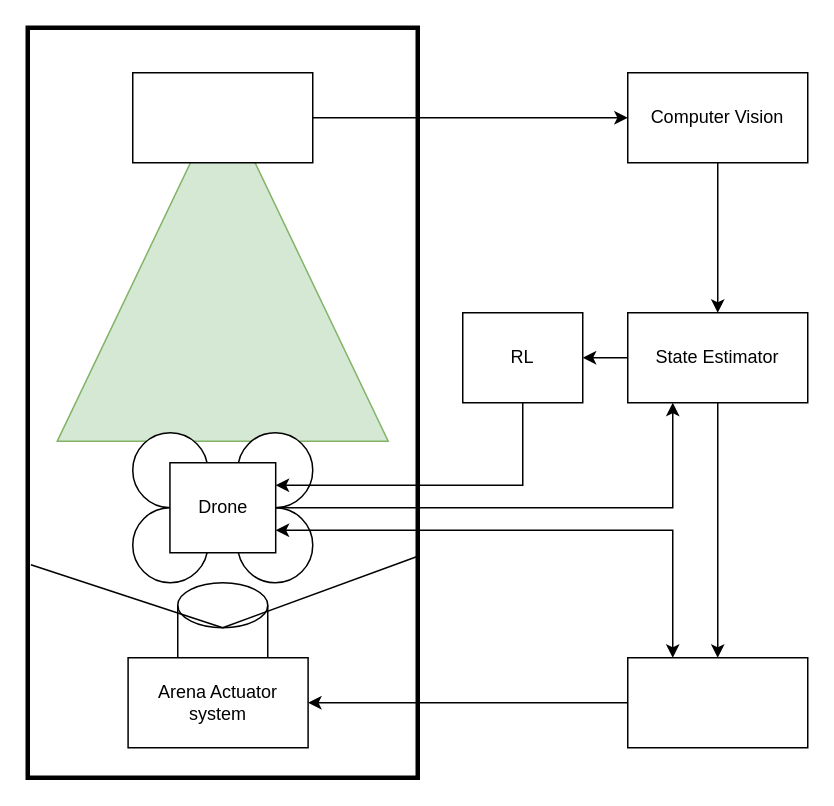
Some shapes in this 834 by 806 pixel diagram are drawn without their labels. The shapes that lost their labels are listed below. From the top down, each one's box as (x1, y1, x2, y2) in pixels, then its label:
(131, 71, 313, 163): Camera
(626, 656, 808, 748): Supervisory System
